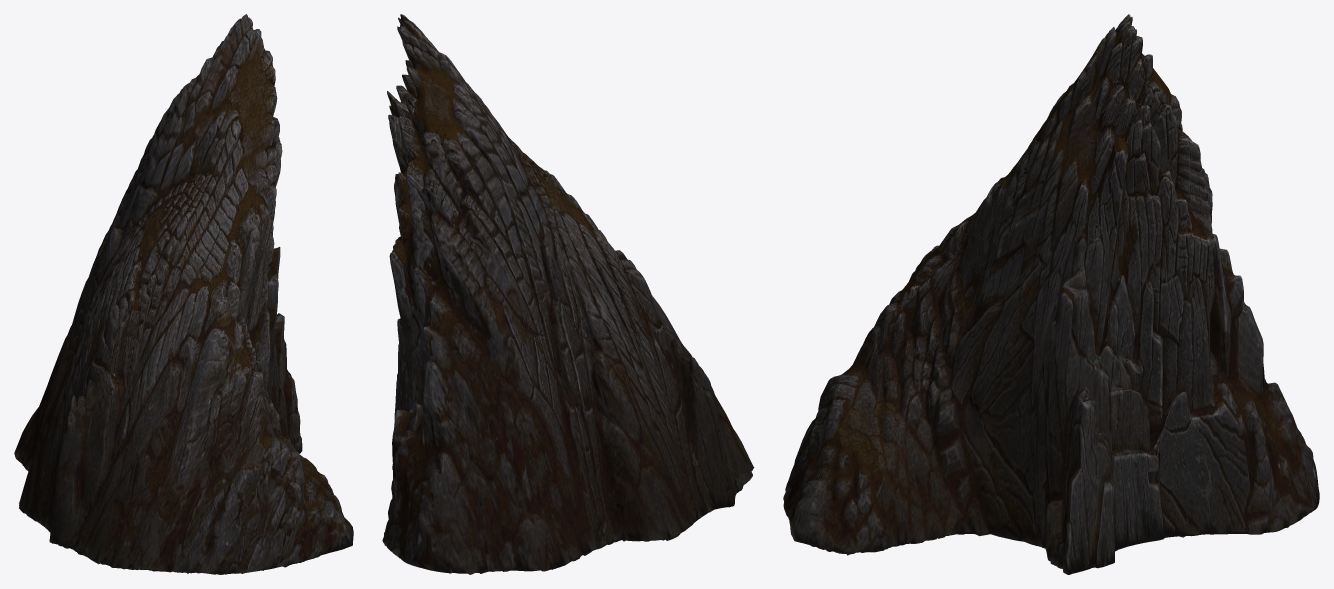
The model's file is Rock_03_Leaning_Crag.fbx.
The picture shows the model from 3 angles, left to right: view 1: azimuth 30°, elevation 25°; view 2: azimuth 150°, elevation 25°; view 3: azimuth 270°, elevation 25°; orthographic projection. The views are drawn at different scales.
Visible parts, largest first — view 1: Rock_03_Leaning_Crag; view 2: Rock_03_Leaning_Crag; view 3: Rock_03_Leaning_Crag.
Boxes of the visible parts, left/top/right/bottom form: Rock_03_Leaning_Crag: left=14, top=14, right=353, bottom=574; Rock_03_Leaning_Crag: left=382, top=14, right=754, bottom=574; Rock_03_Leaning_Crag: left=783, top=14, right=1319, bottom=574.
Bounding box in the file's own units: 51.98 × 75.89 × 67.69.
Materials: 1 (1 with a texture image).
